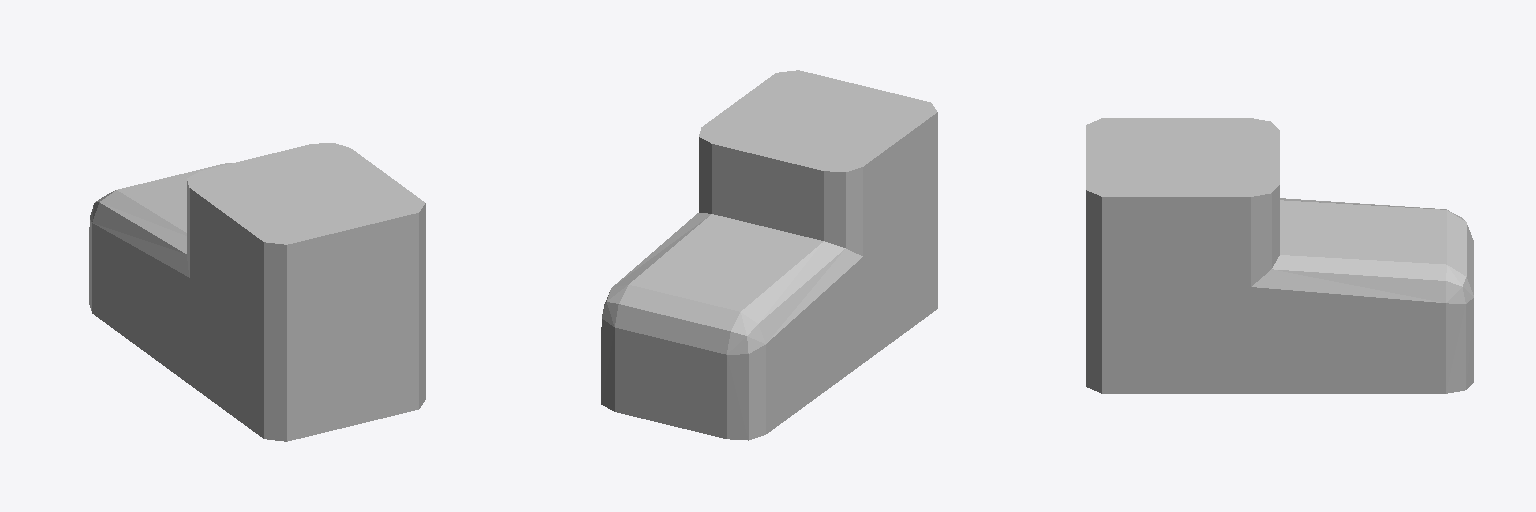
The model's file is Foot_L.obj.
3 views of the same model, side by side, from view 1: azimuth 30°, elevation 25°; view 2: azimuth 150°, elevation 25°; view 3: azimuth 270°, elevation 25° (orthographic).
Parts seen in each view (by area): view 1: P_Leg_L; view 2: P_Leg_L; view 3: P_Leg_L.
Part boxes in pixels (left/top/right/bottom): P_Leg_L: left=89, top=143, right=425, bottom=441; P_Leg_L: left=601, top=70, right=937, bottom=440; P_Leg_L: left=1086, top=118, right=1473, bottom=393.
Size of the model in its own units: 0.24 by 0.2794 by 0.5.